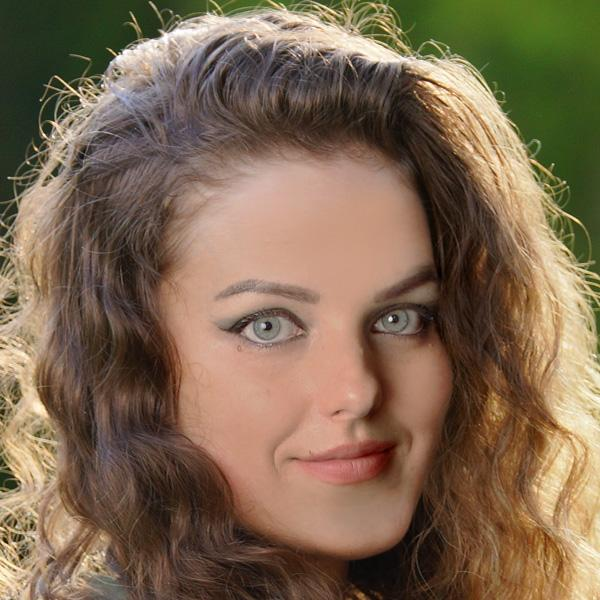Eyes: (223, 303, 318, 356), (362, 295, 441, 346)
